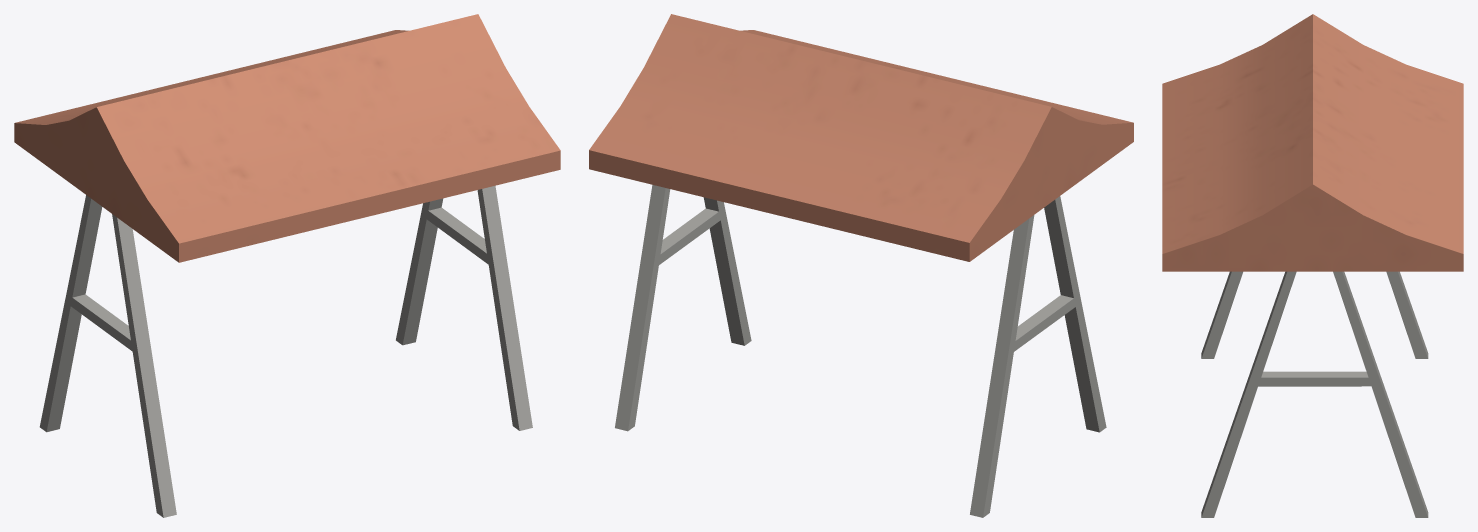
File: fbx_tent_stall_1.fbx
The picture shows the model from 3 angles, left to right: view 1: azimuth 30°, elevation 25°; view 2: azimuth 150°, elevation 25°; view 3: azimuth 270°, elevation 25°; orthographic projection. The views are drawn at different scales.
Parts seen in each view (by area): view 1: fbx_tent_stall_1; view 2: fbx_tent_stall_1; view 3: fbx_tent_stall_1.
Part boxes in pixels (x1,y1,x2,y2): fbx_tent_stall_1: (14, 14, 560, 517); fbx_tent_stall_1: (589, 14, 1133, 517); fbx_tent_stall_1: (1162, 14, 1463, 517).
Bounding box in the file's own units: 3.81 × 3.51 × 2.85.
1 material, 1 textured.
